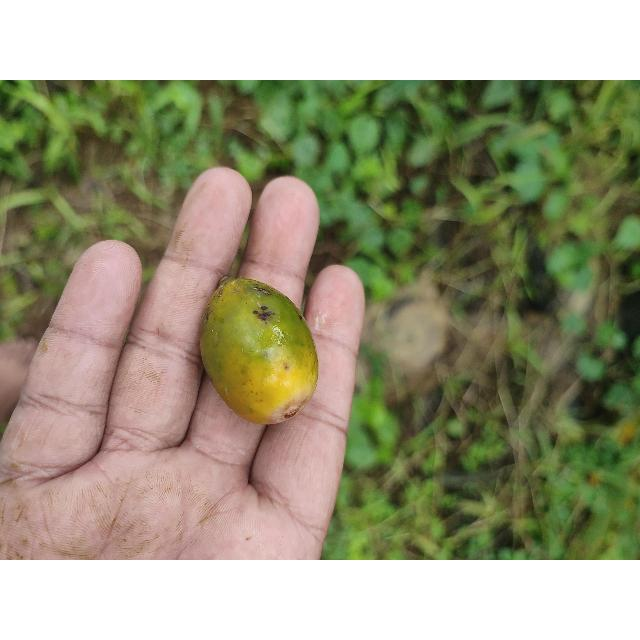good: (200, 276, 318, 424)
